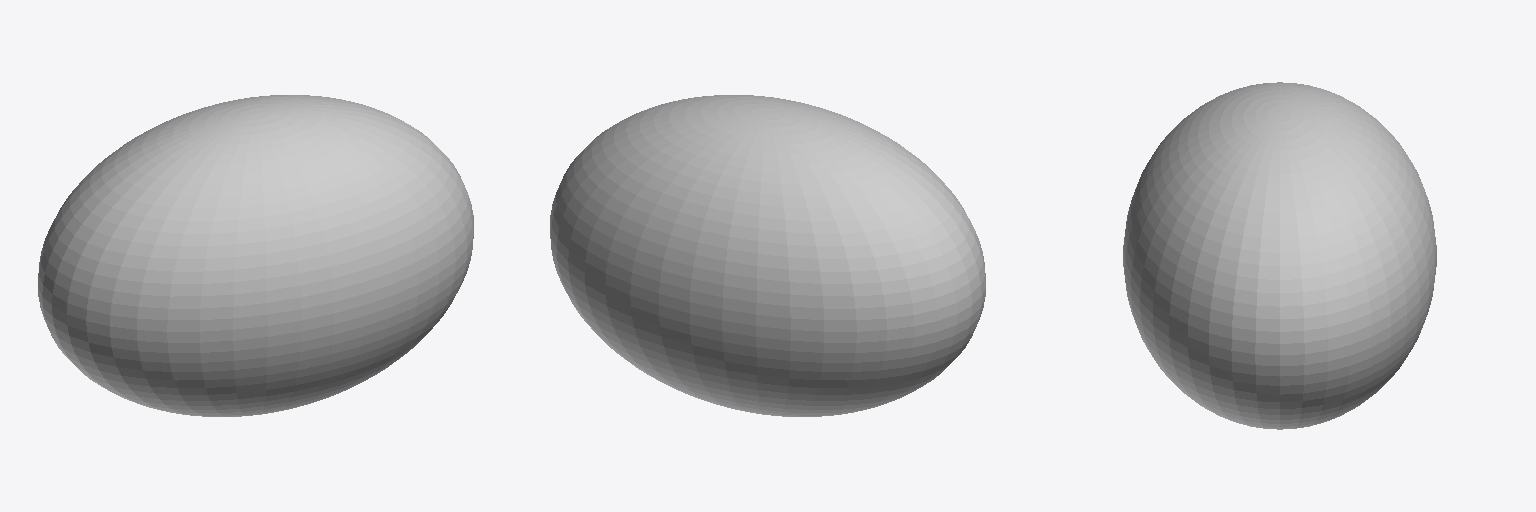
The model's file is egg.obj.
3 views of the same model, side by side, from view 1: azimuth 30°, elevation 25°; view 2: azimuth 150°, elevation 25°; view 3: azimuth 270°, elevation 25° (orthographic).
Visible parts, largest first — view 1: pSphere1; view 2: pSphere1; view 3: pSphere1.
Part boxes in pixels (left/top/right/bottom): pSphere1: left=38, top=95, right=473, bottom=416; pSphere1: left=550, top=95, right=985, bottom=416; pSphere1: left=1123, top=82, right=1436, bottom=429.
Bounding box in the file's own units: 3 × 2 × 2.